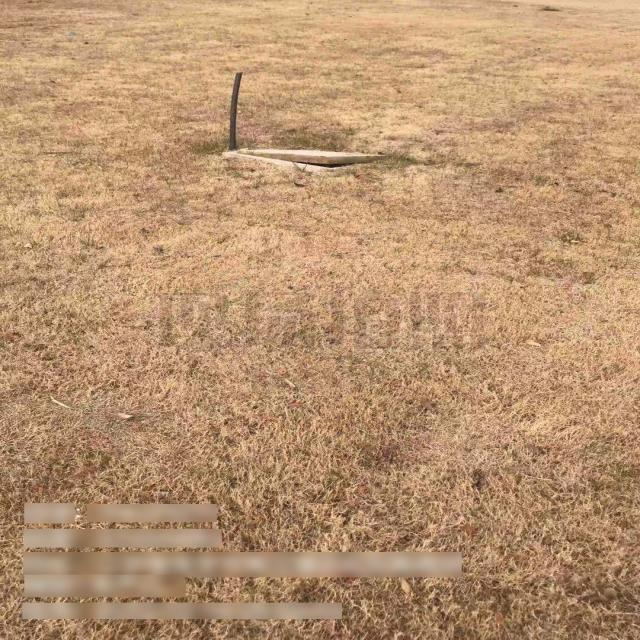Faulty: (220, 147, 398, 175)
